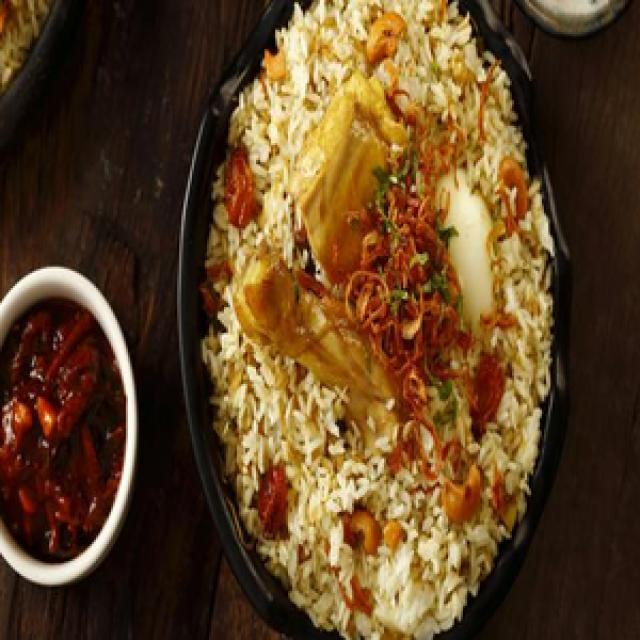chicken biriyani: (185, 0, 571, 640)
